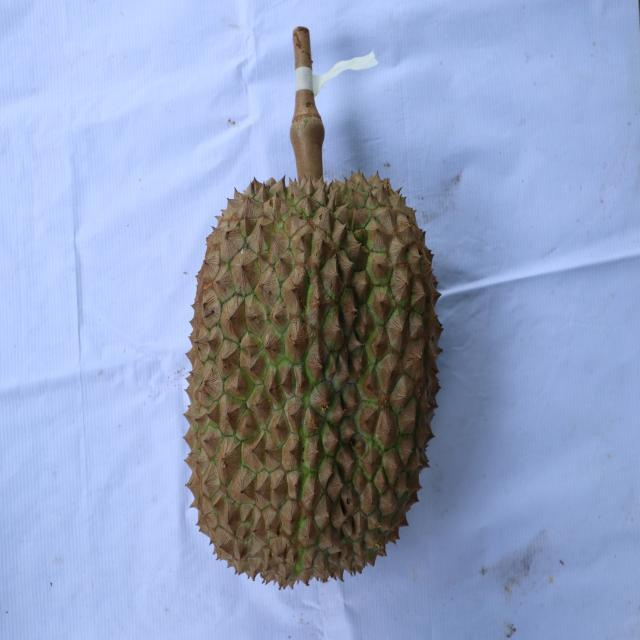mature: (184, 171, 446, 590)
